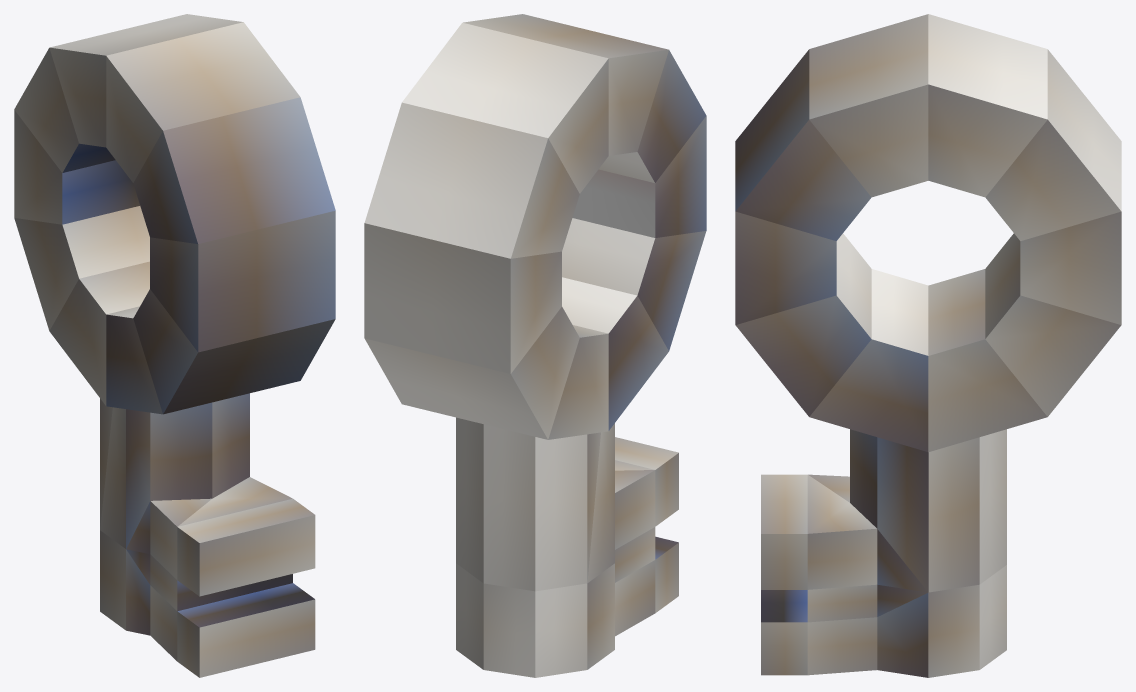
Rendered from key02.fbx.
The picture shows the model from 3 angles, left to right: view 1: azimuth 30°, elevation 25°; view 2: azimuth 150°, elevation 25°; view 3: azimuth 270°, elevation 25°; orthographic projection. The views are drawn at different scales.
Parts seen in each view (by area): view 1: key02; view 2: key02; view 3: key02.
Boxes of the visible parts, <box> form: key02: <box>14,14,335,677</box>; key02: <box>364,14,706,677</box>; key02: <box>735,14,1121,677</box>.
Size of the model in its own units: 27.12 by 107 by 62.82.
